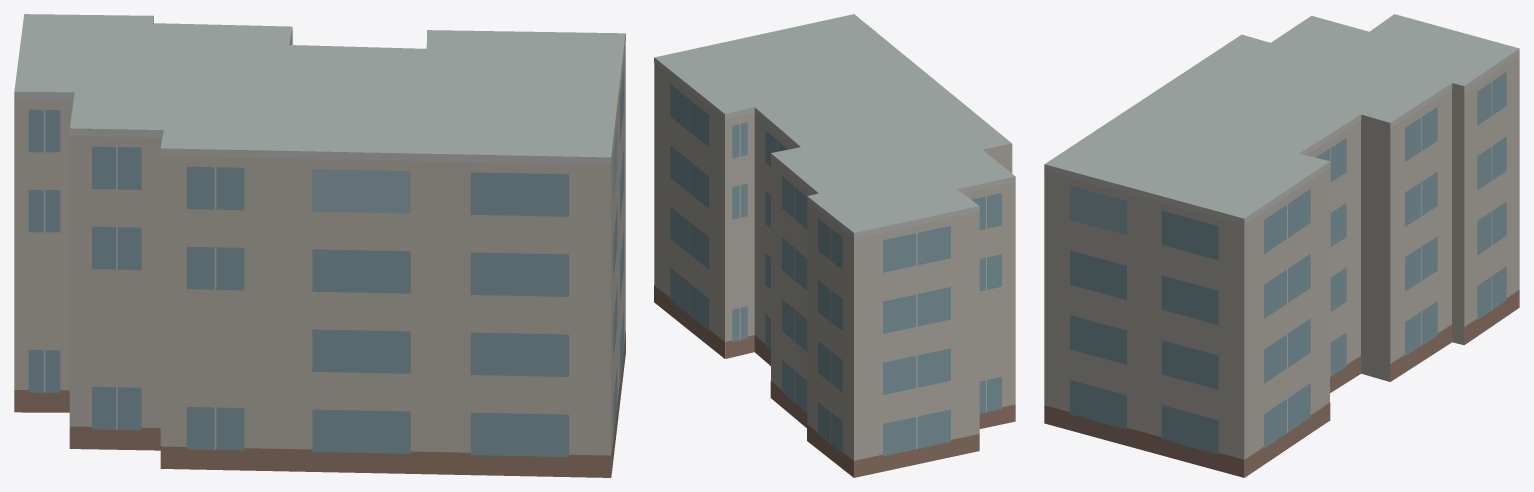
The model's file is survey-upis-32637417.glb.
3 renders of one model, left to right at view 1: azimuth 30°, elevation 25°; view 2: azimuth 150°, elevation 25°; view 3: azimuth 270°, elevation 25°, orthographic. The views are drawn at different scales.
Parts seen in each view (by area): view 1: survey-upis-32637417.tmp; view 2: survey-upis-32637417.tmp; view 3: survey-upis-32637417.tmp.
Part boxes in pixels (<box>): survey-upis-32637417.tmp: <box>14,14,625,477</box>; survey-upis-32637417.tmp: <box>654,14,1015,477</box>; survey-upis-32637417.tmp: <box>1044,14,1519,477</box>.
Size of the model in its own units: 17.62 by 10.4 by 17.29.
